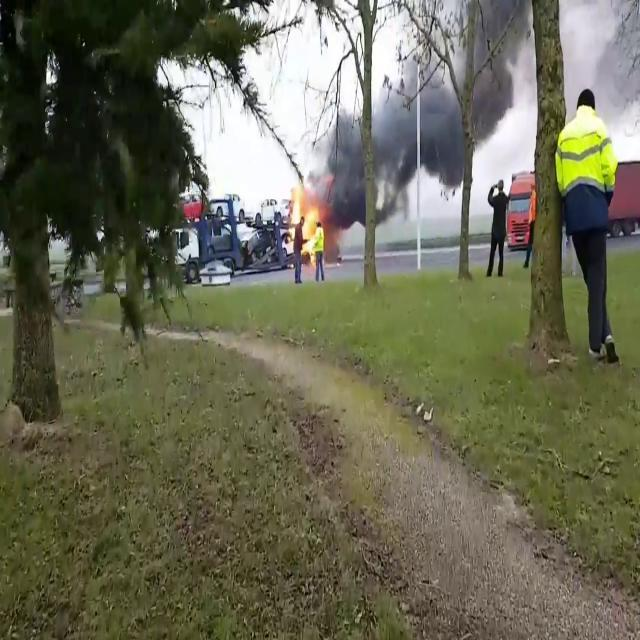Fire: (286, 182, 328, 262)
Smoke: (312, 54, 462, 219), (428, 0, 532, 182)
